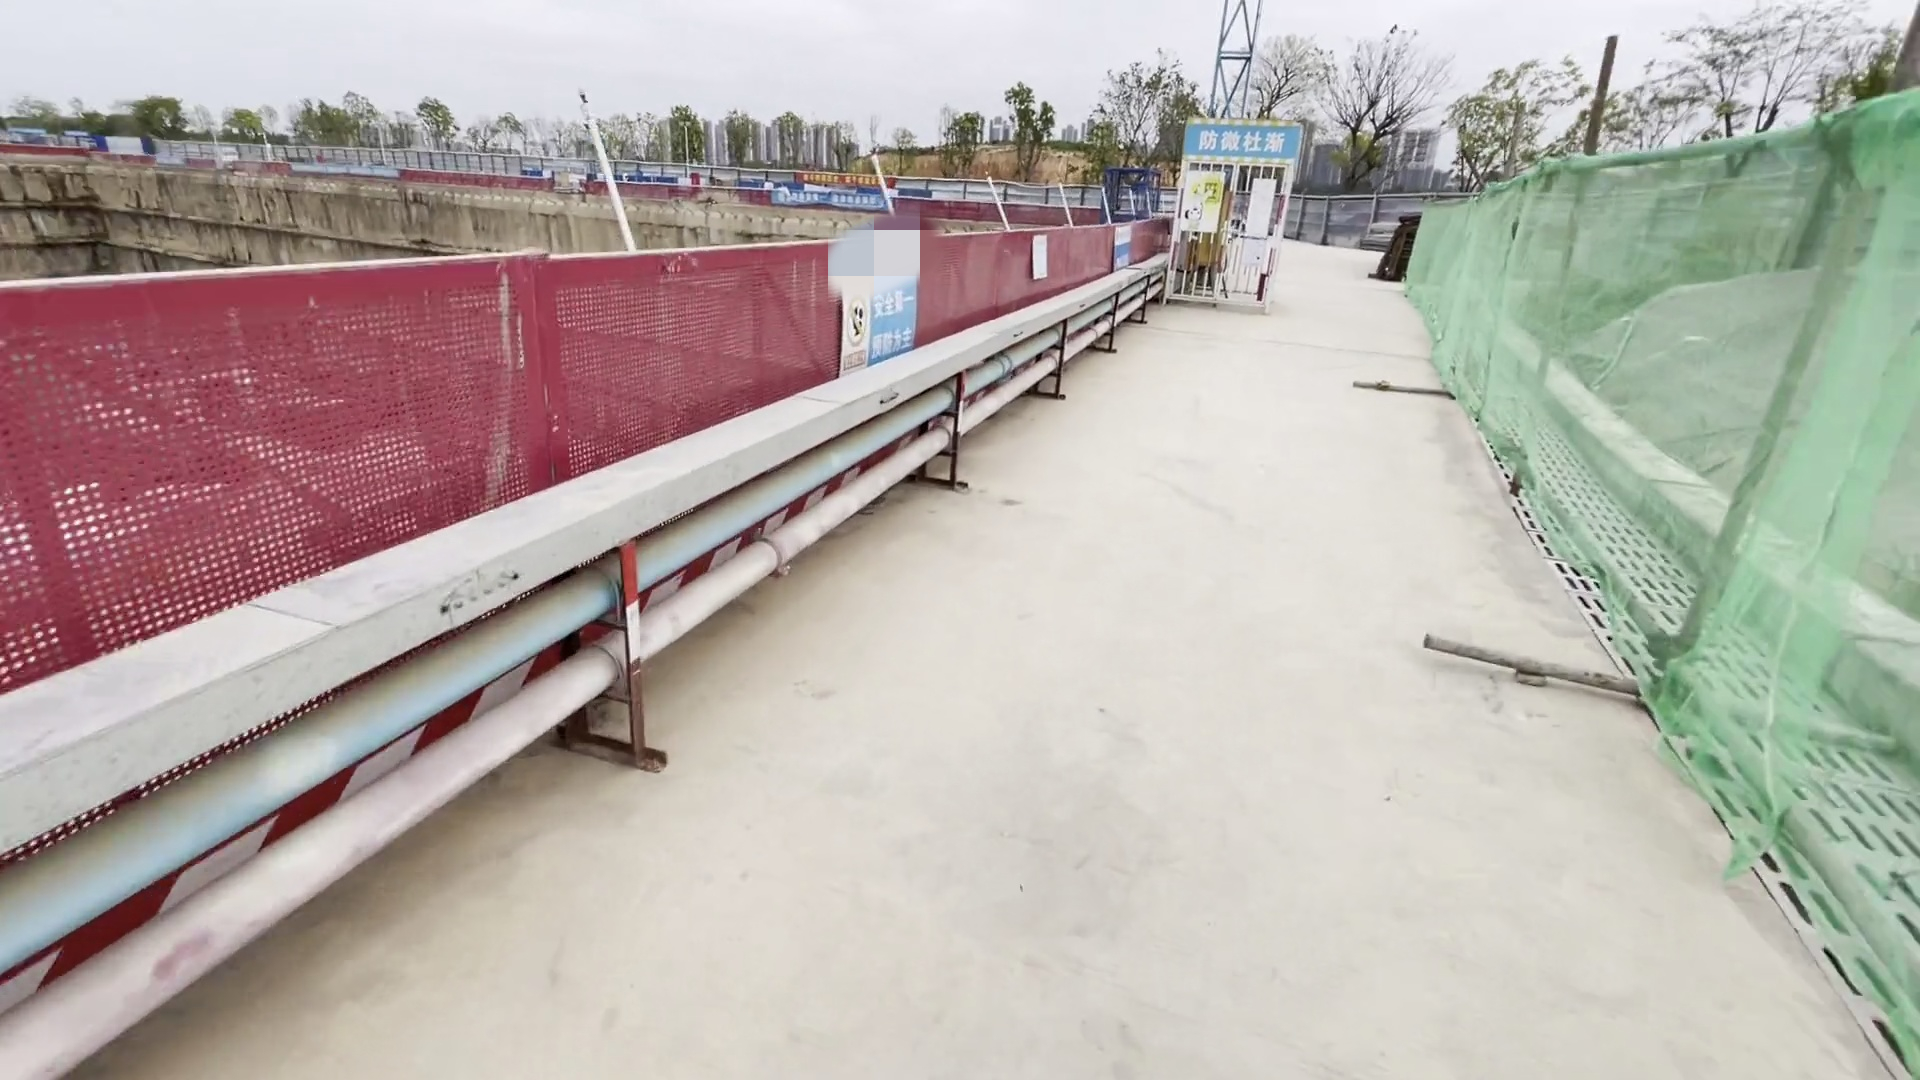fence: (1, 218, 1154, 698)
slogan: (1159, 105, 1290, 161), (864, 289, 938, 371), (796, 161, 893, 220)
